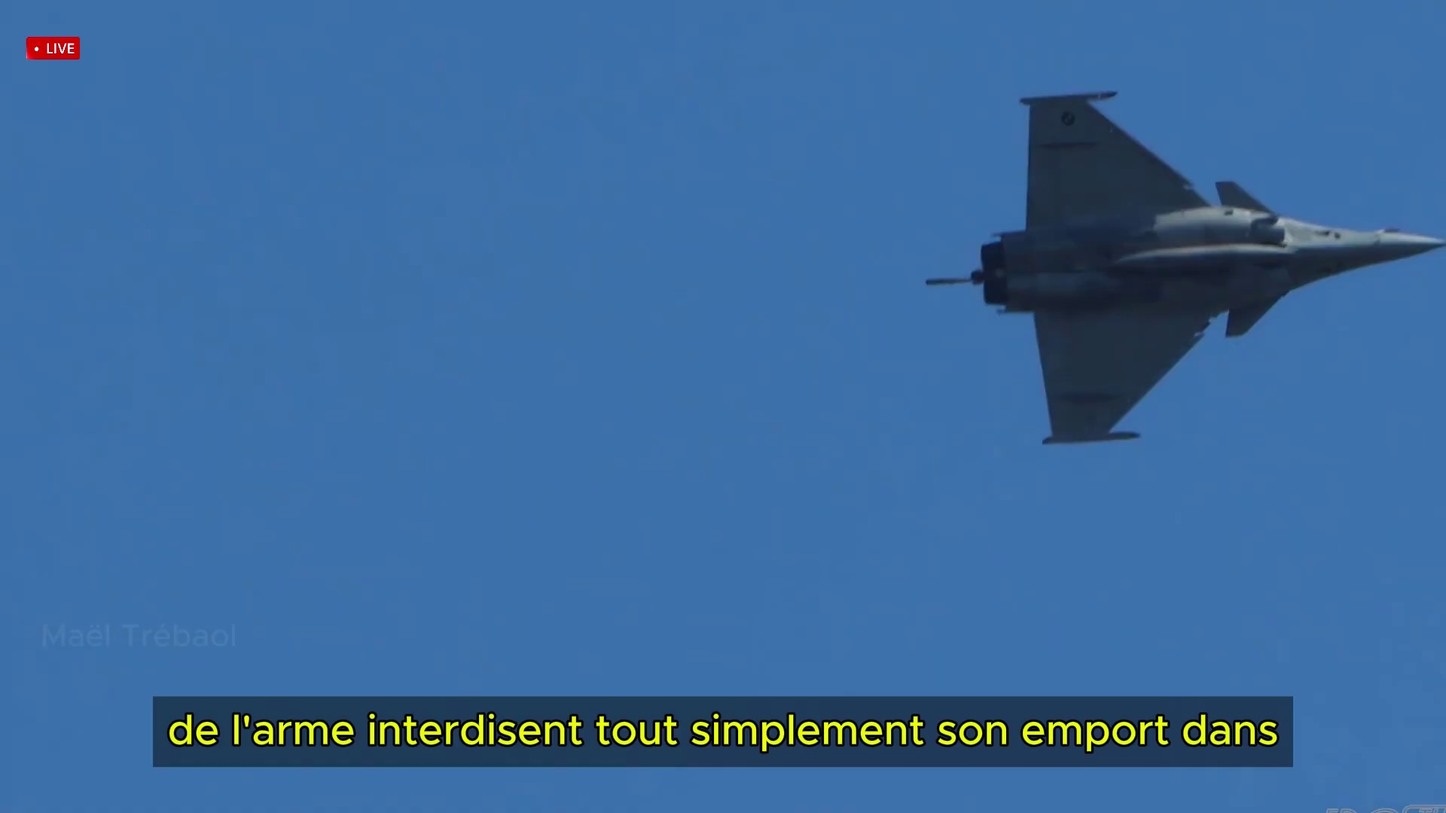Rafale: (926, 88, 1446, 444)
